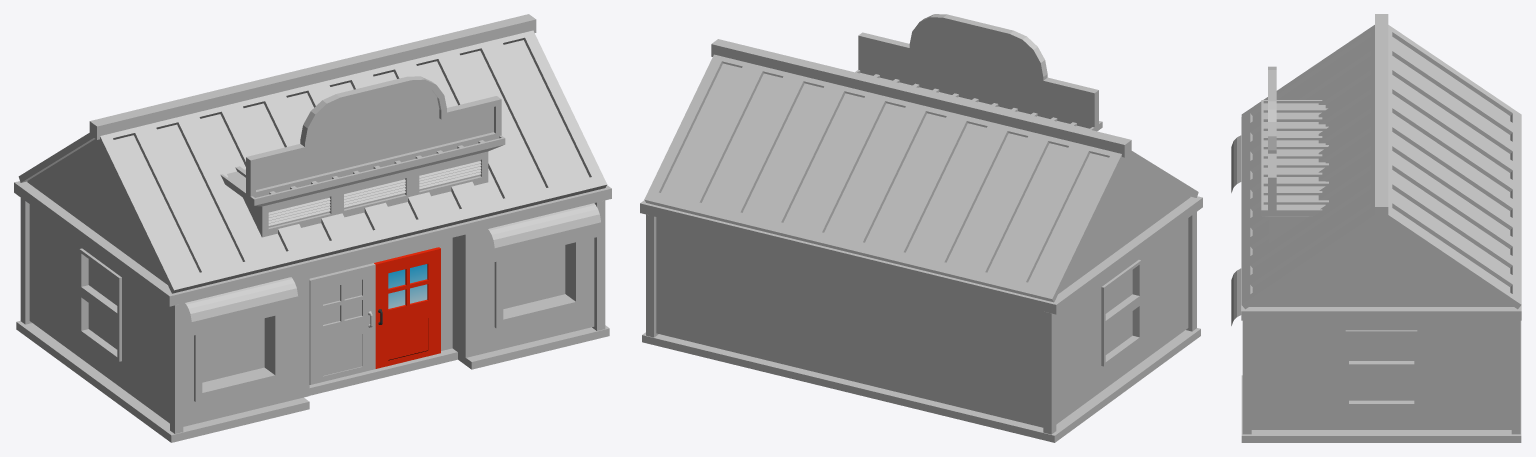
File: house3.obj
3 views of the same model, side by side, from view 1: azimuth 30°, elevation 25°; view 2: azimuth 150°, elevation 25°; view 3: azimuth 270°, elevation 25° (orthographic). The views are drawn at different scales.
Parts seen in each view (by area): view 1: mesh_0, mesh_3, mesh_2, mesh_1; view 2: mesh_0; view 3: mesh_0, mesh_3.
Boxes of the visible parts, x1,y1,x2,y2 form: mesh_0: [14, 14, 611, 442]; mesh_3: [185, 203, 601, 335]; mesh_2: [309, 263, 375, 384]; mesh_1: [374, 247, 440, 368]; mesh_0: [640, 14, 1202, 442]; mesh_0: [1241, 14, 1521, 442]; mesh_3: [1231, 135, 1241, 325].
Size of the model in its own units: 1.6 by 1 by 1.01.
